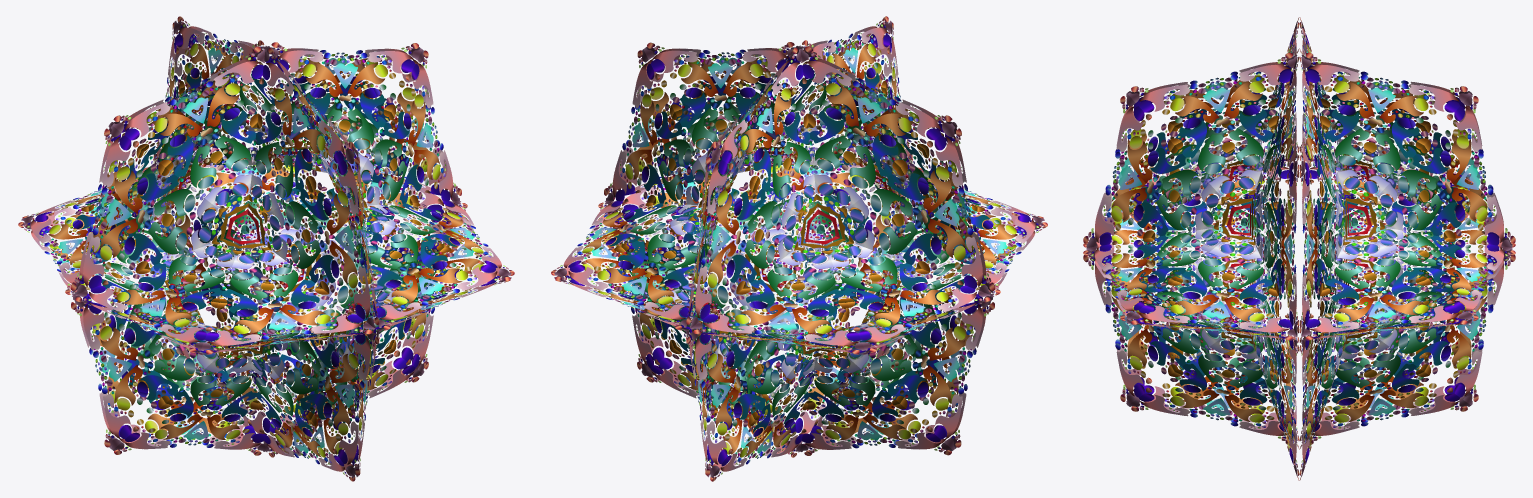
File: Mobius48a.obj
The picture shows the model from 3 angles, left to right: view 1: azimuth 30°, elevation 25°; view 2: azimuth 150°, elevation 25°; view 3: azimuth 270°, elevation 25°; orthographic projection. The views are drawn at different scales.
Size of the model in its own units: 2.41 by 2.41 by 2.41.
Materials: 1 (1 with a texture image).
